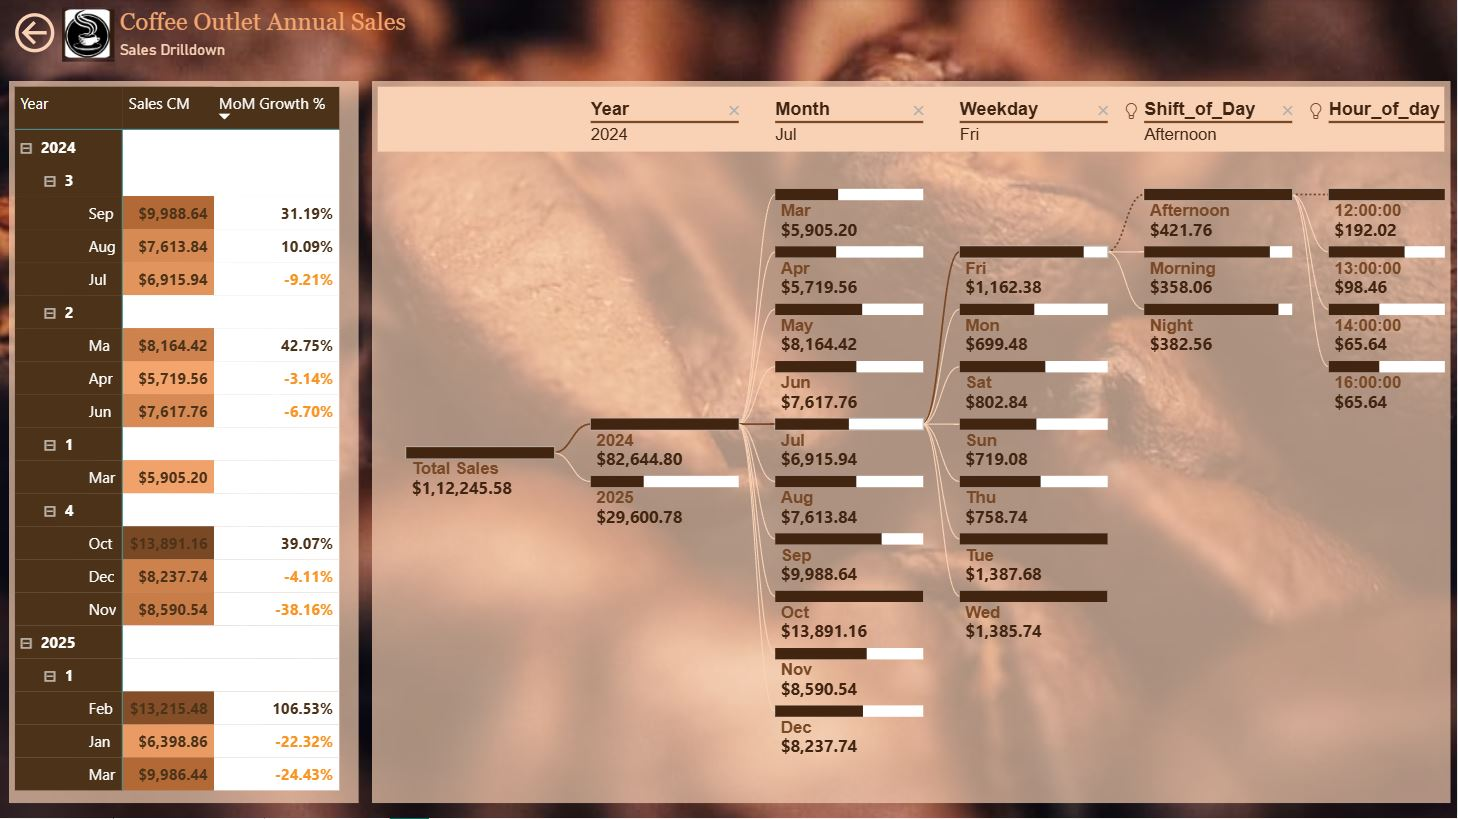

What the dashboard file says about the page in this screenshot:
{"tool":"powerbi","page":{"name":"Sales Drilldown","canvas":[1280,720],"ordinal":1},"visuals":[{"type":"pivotTable","fields":{"Rows":["Dim_Date.Year","Dim_Date.Quarter","Dim_Date.Month"],"Values":["Coffe_sales data.Sales CM","Coffe_sales data.Sales MoM %"]},"box":[8.8,72.9,307.3,634],"z":0},{"type":"decompositionTreeVisual","fields":{"Analyze":["Coffe_sales data.Total Sales"],"ExplainBy":["Dim_Date.Year","Dim_Date.Month","Dim_Date.Weekday","Dim_time.Shift_of_Day","Dim_time.Hour_of_day"]},"box":[327.5,72.9,946.5,634],"z":1000},{"type":"actionButton","box":[8.9,8,76.3,45.2],"z":2000},{"type":"textbox","title":"Coffee Outlet Annual Sales","box":[101,7.9,272.2,45.7],"z":2001},{"type":"image","box":[40.4,7.9,76.4,48.3],"z":2002}]}

Visuals, with their boxes in screenshot pixels (x1, y1, x2, y2), scaled from the page's 1280x720 canvas onto the 1458x819 screenshot:
pivotTable - Dim_Date.Year x Dim_Date.Quarter: bbox=(10, 83, 360, 804)
decompositionTreeVisual - Coffe_sales data.Total Sales x Dim_Date.Year: bbox=(373, 83, 1451, 804)
actionButton: bbox=(10, 9, 97, 61)
"Coffee Outlet Annual Sales" textbox: bbox=(115, 9, 425, 61)
image: bbox=(46, 9, 133, 64)
